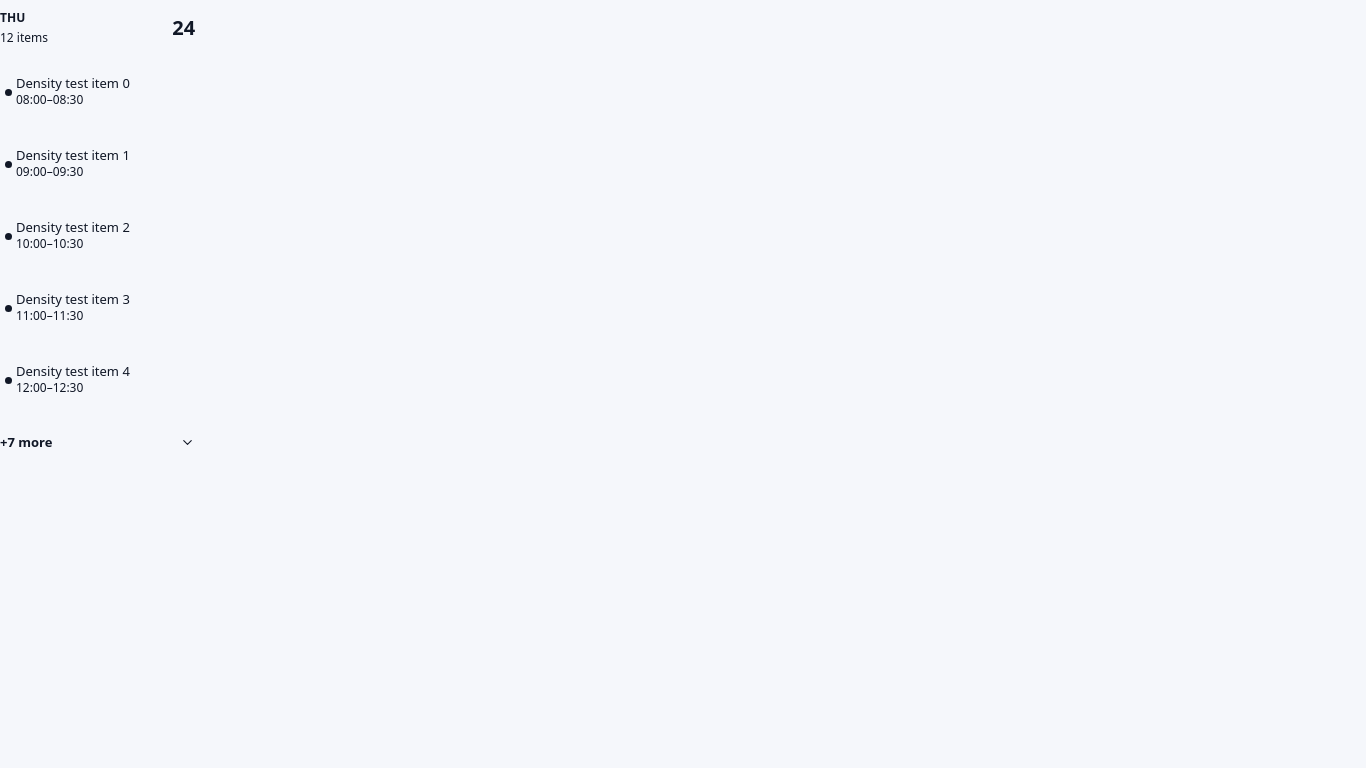
it: Week board overflow › searches the full day, including items excluded from the preview
This screenshot has width=1366, height=768.
Click the button with test id "week-day-more" at (98, 442), box [0,420,195,464]
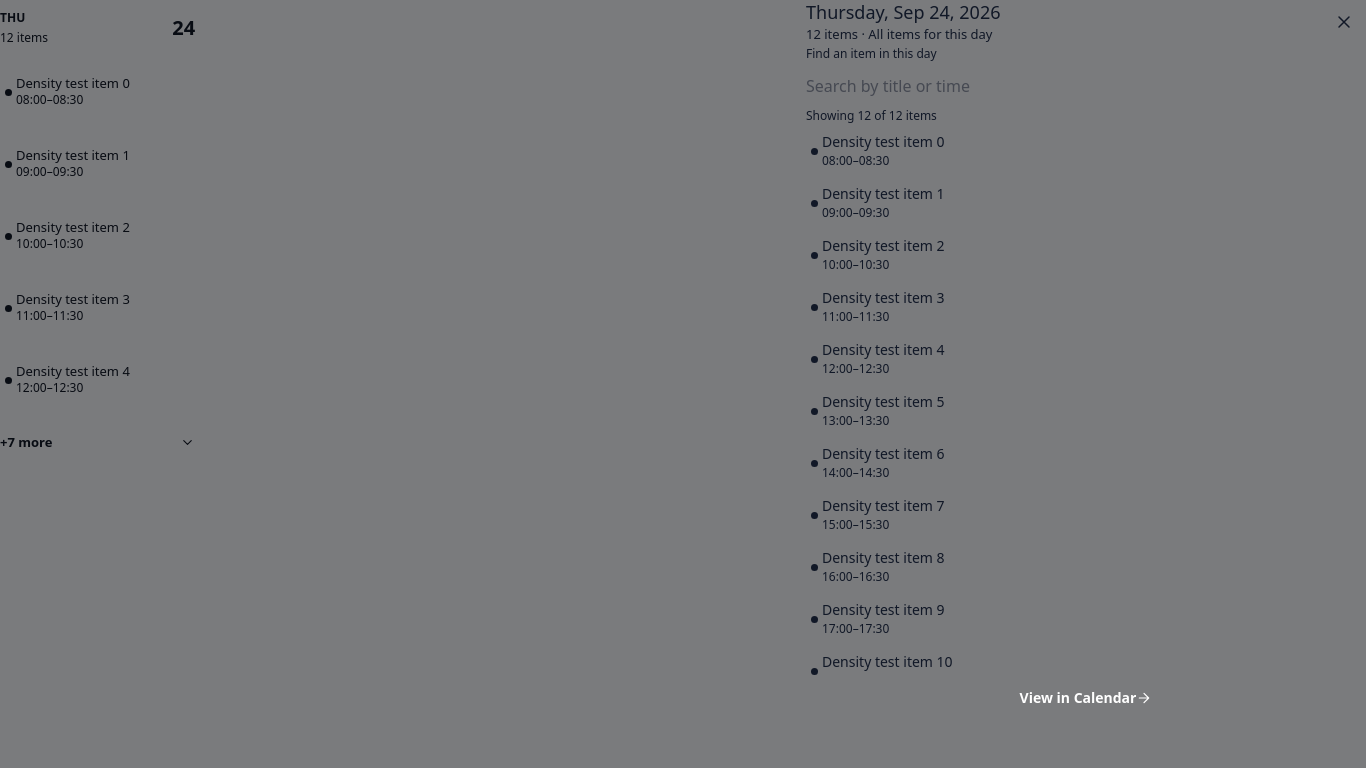
Type "item 11" into the search field at (1086, 86), box [806,64,1365,108]
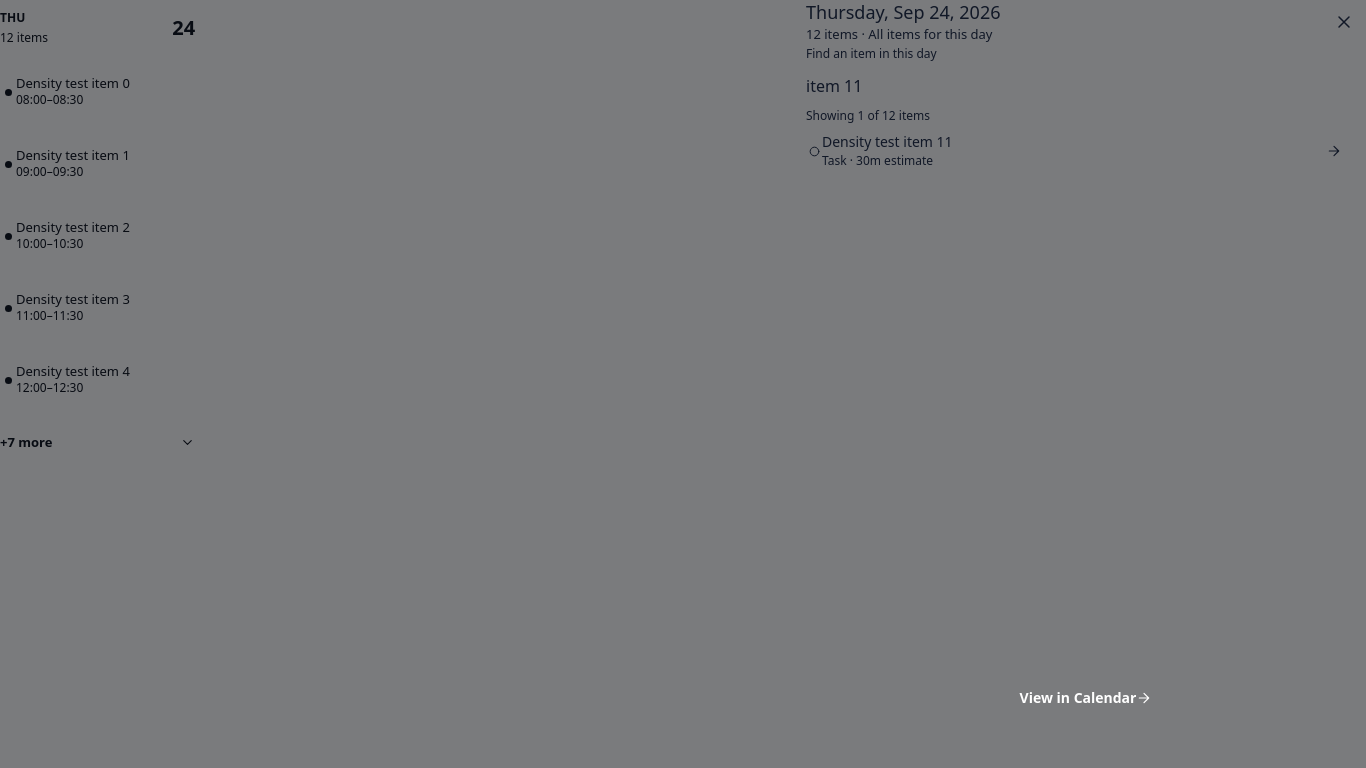
Result: the number of elements with test id "week-detail-row" is 1 at [806,125,1356,177]
Replace the text in the search field with "no-such-item" at (1086, 86), box [806,64,1365,108]
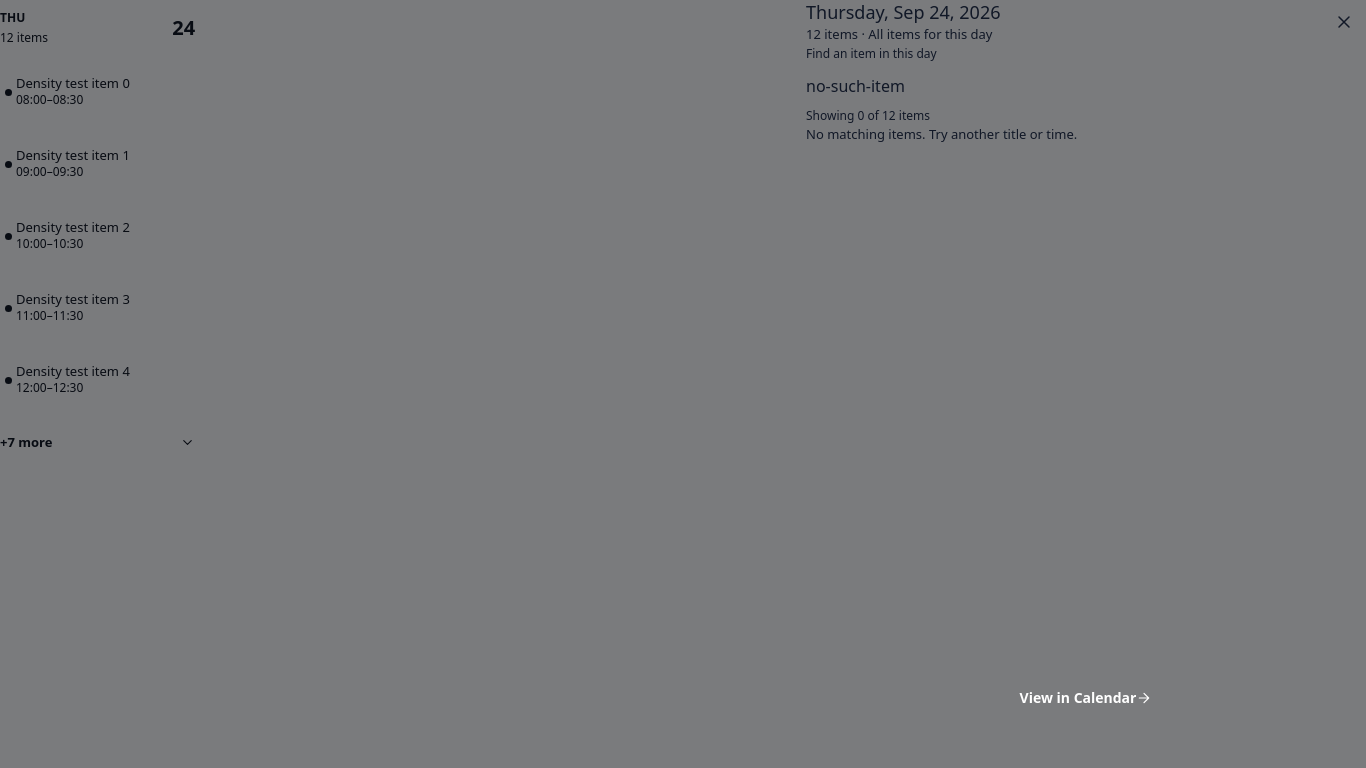
Result: no elements with test id "week-detail-row" are shown
